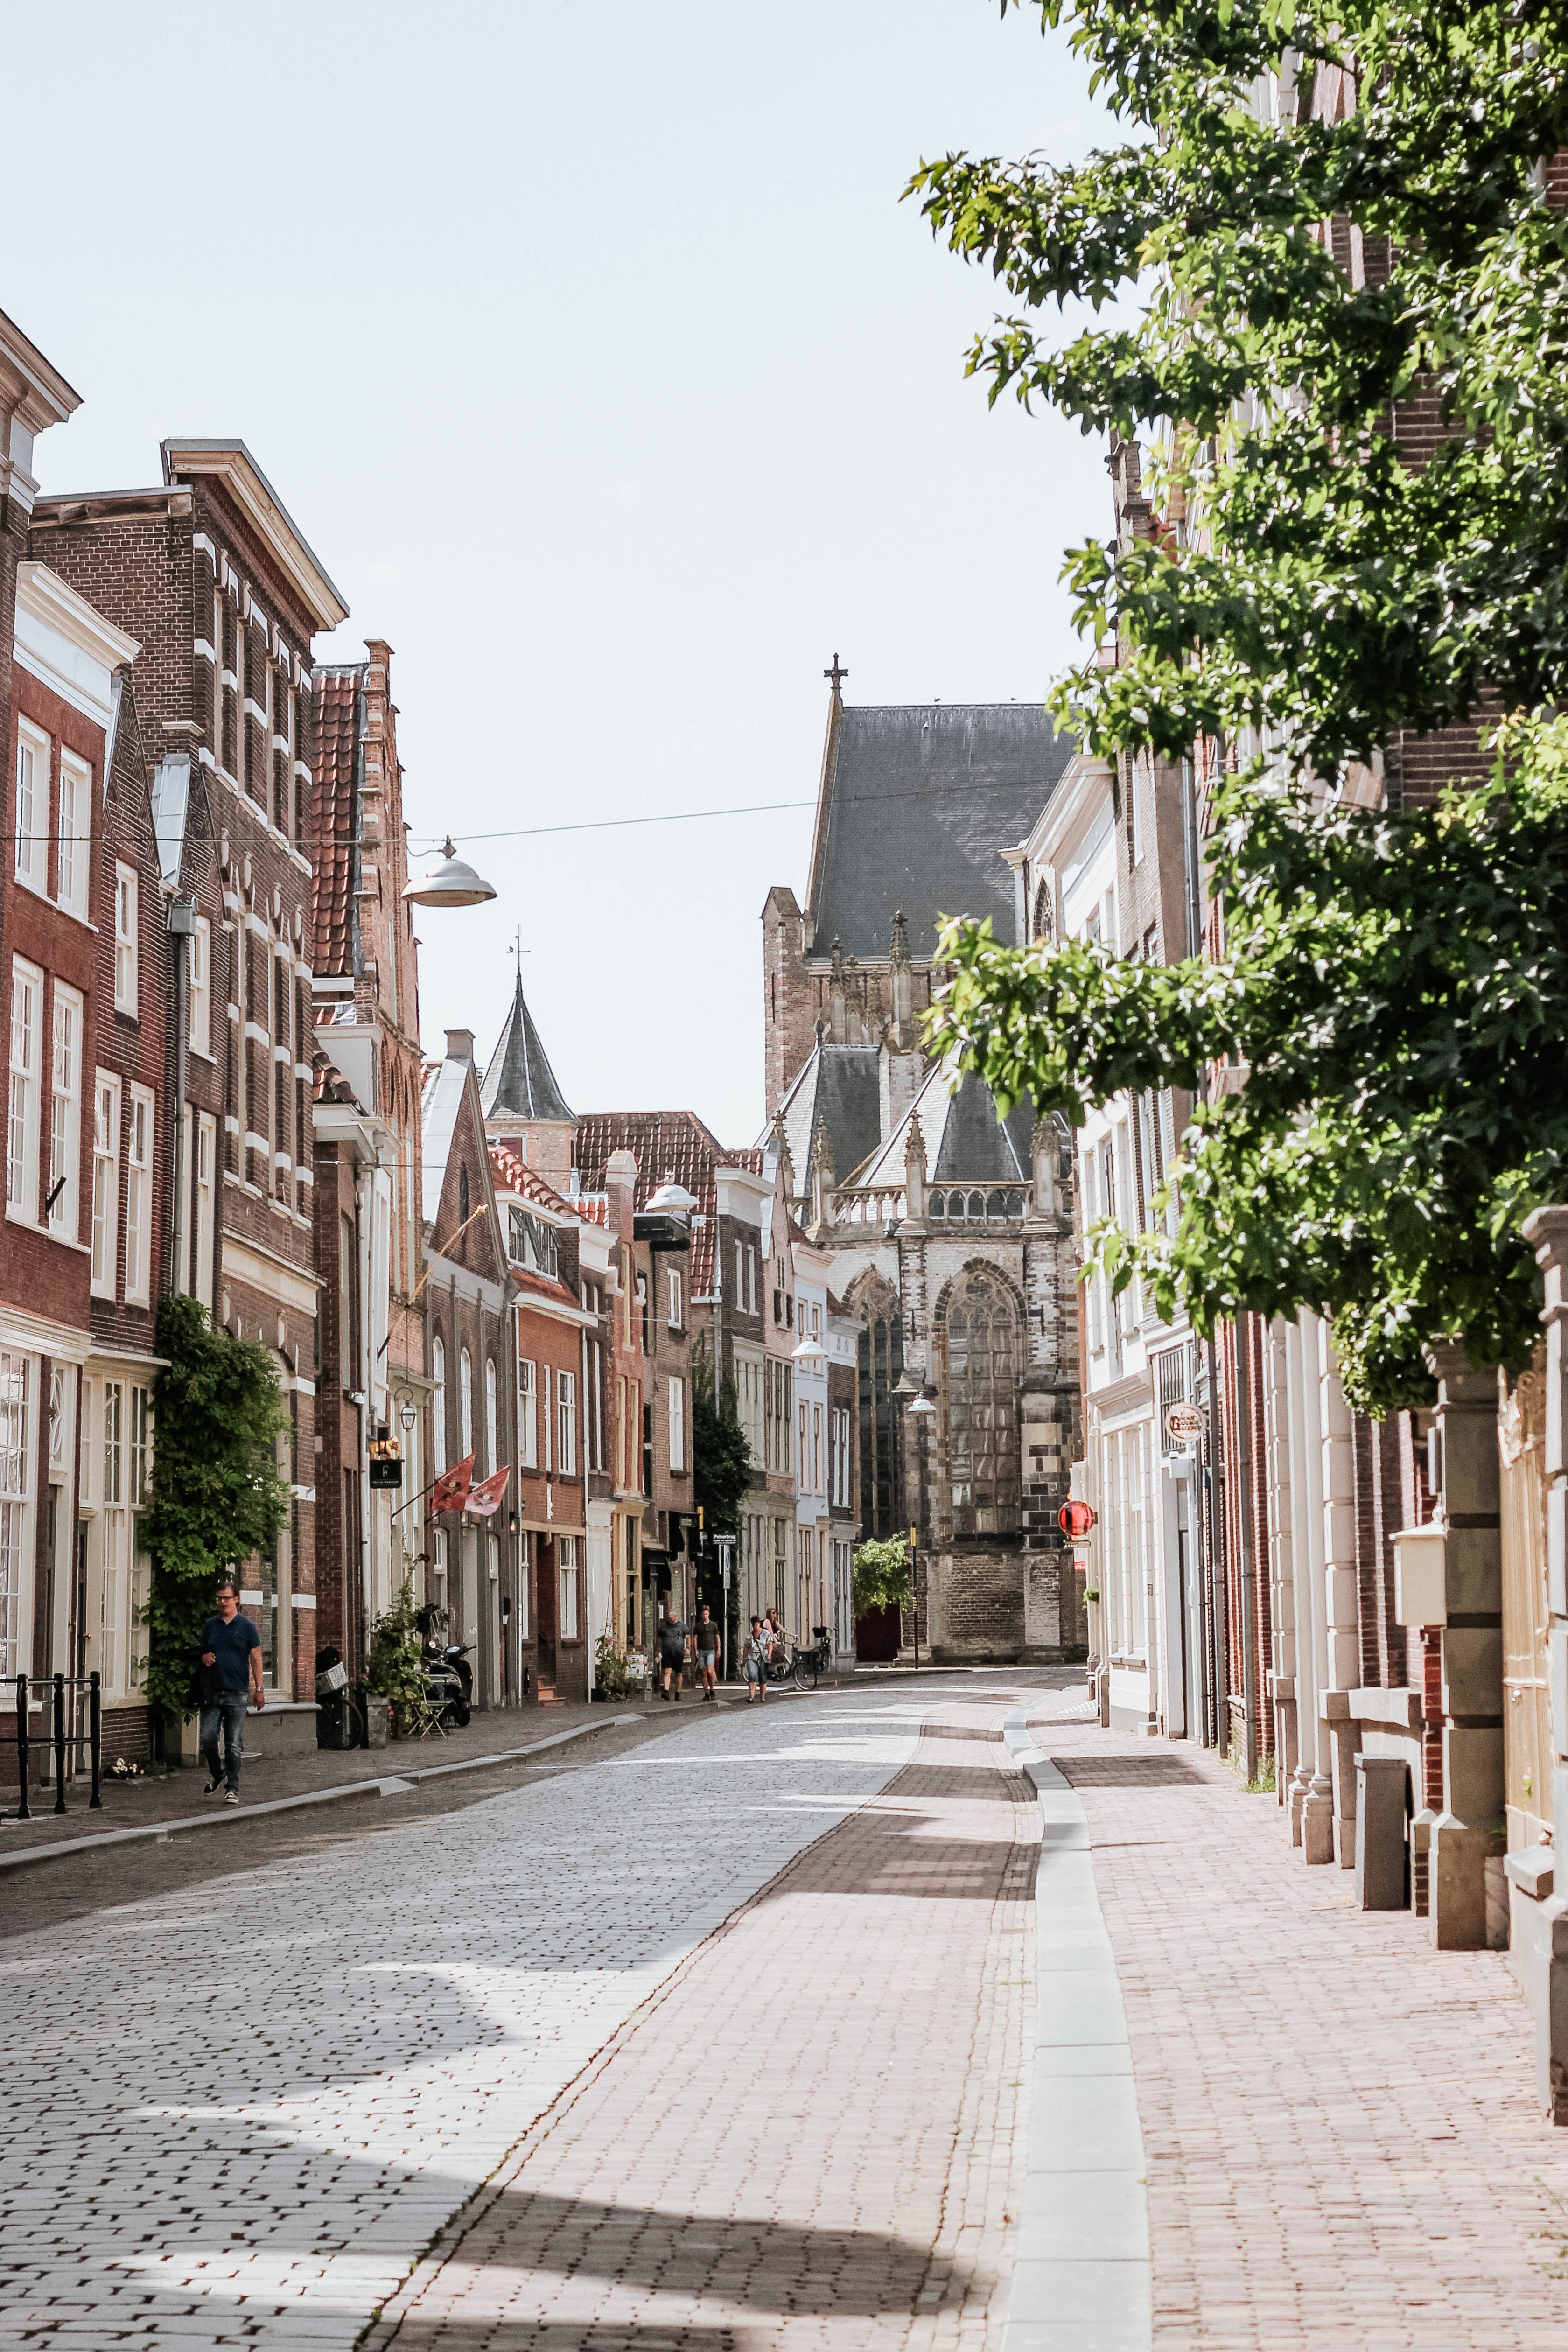tree: (898, 0, 1568, 1416)
